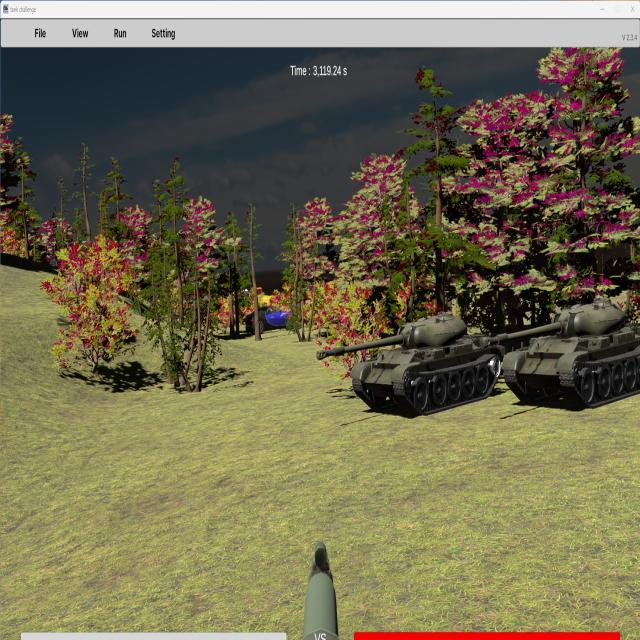Tank: (317, 312, 506, 416), (484, 292, 640, 410)
